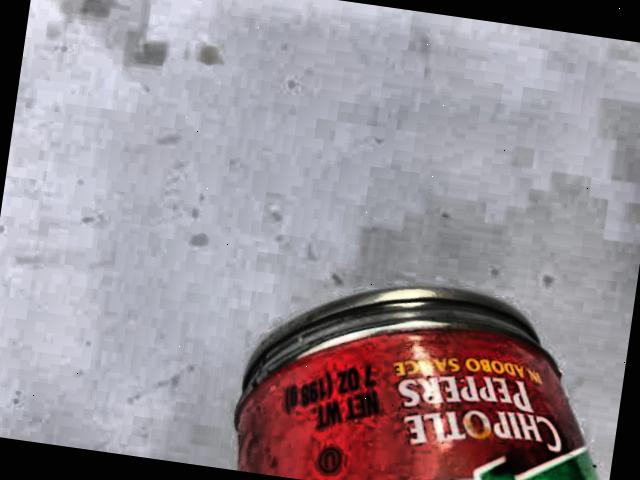Almennt: (187, 222, 636, 480)
